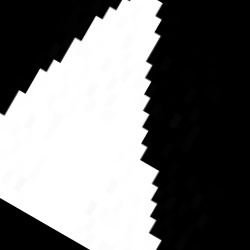spot: (1, 1, 163, 248)
